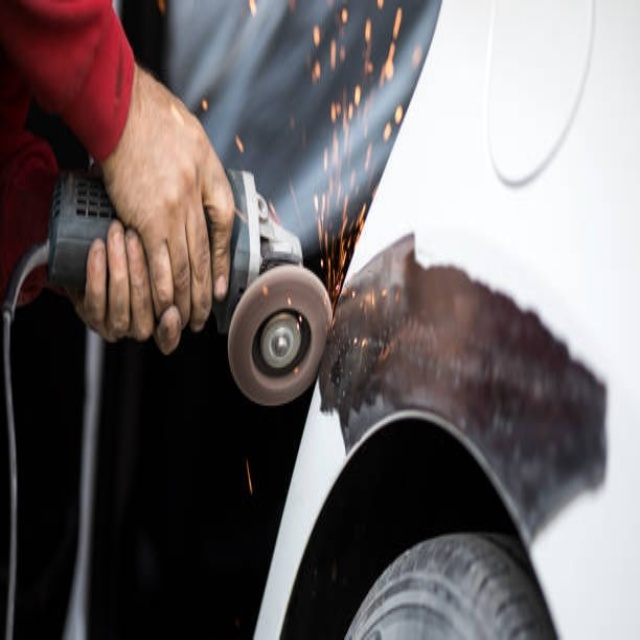Sin_guantes: (85, 72, 239, 353)
